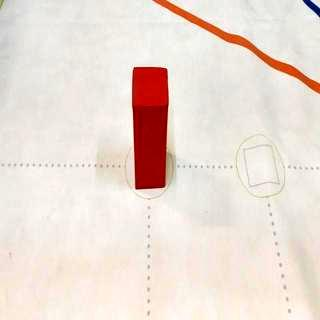redbox: (132, 65, 170, 190)
